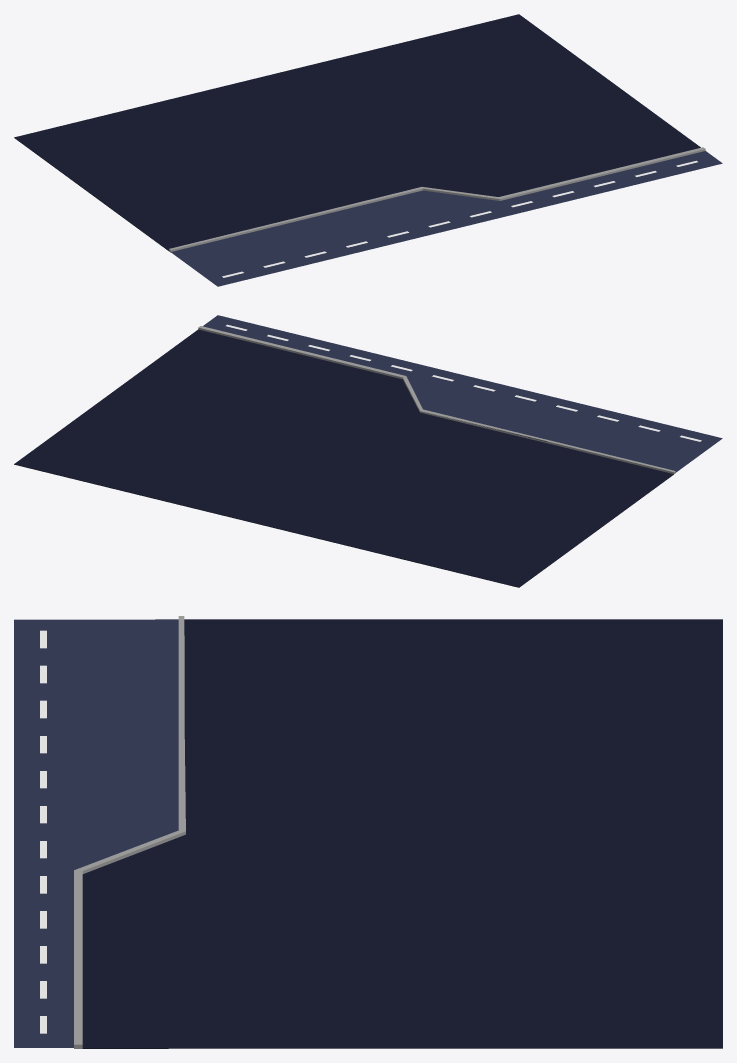
The model's file is Road_1.fbx.
3 renders of one model, top to bottom at view 1: azimuth 30°, elevation 25°; view 2: azimuth 150°, elevation 25°; view 3: azimuth 270°, elevation 25°, orthographic. The views are drawn at different scales.
Parts seen in each view (by area): view 1: Plane_002, Plane_001, Plane; view 2: Plane_002, Plane_001, Plane; view 3: Plane_002, Plane_001, Plane.
Boxes of the visible parts, x1=… form: Plane_002: x1=14, y1=14, x2=705, y2=252; Plane_001: x1=171, y1=151, x2=722, y2=286; Plane: x1=222, y1=160, x2=697, y2=277; Plane_002: x1=14, y1=326, x2=675, y2=587; Plane_001: x1=203, y1=315, x2=722, y2=472; Plane: x1=226, y1=324, x2=701, y2=441; Plane_002: x1=74, y1=616, x2=722, y2=1048; Plane_001: x1=14, y1=619, x2=178, y2=1047; Plane: x1=40, y1=630, x2=46, y2=1033.
Size of the model in its own units: 881 by 3.94 by 616.
